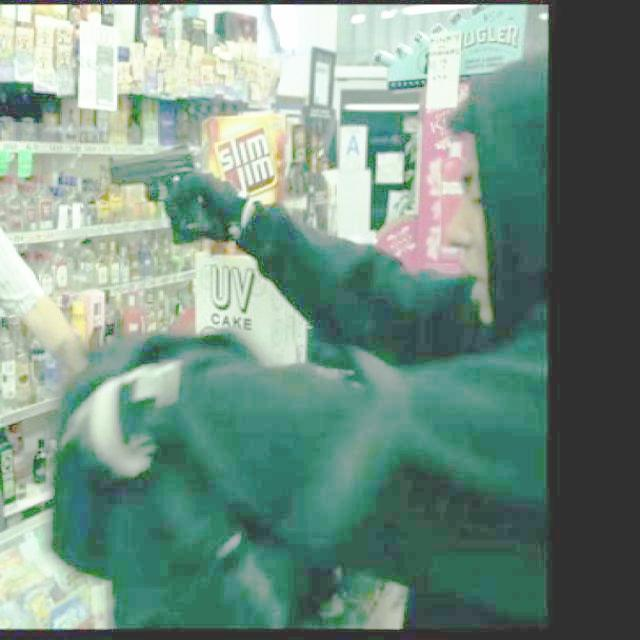Gun: (98, 131, 211, 237)
